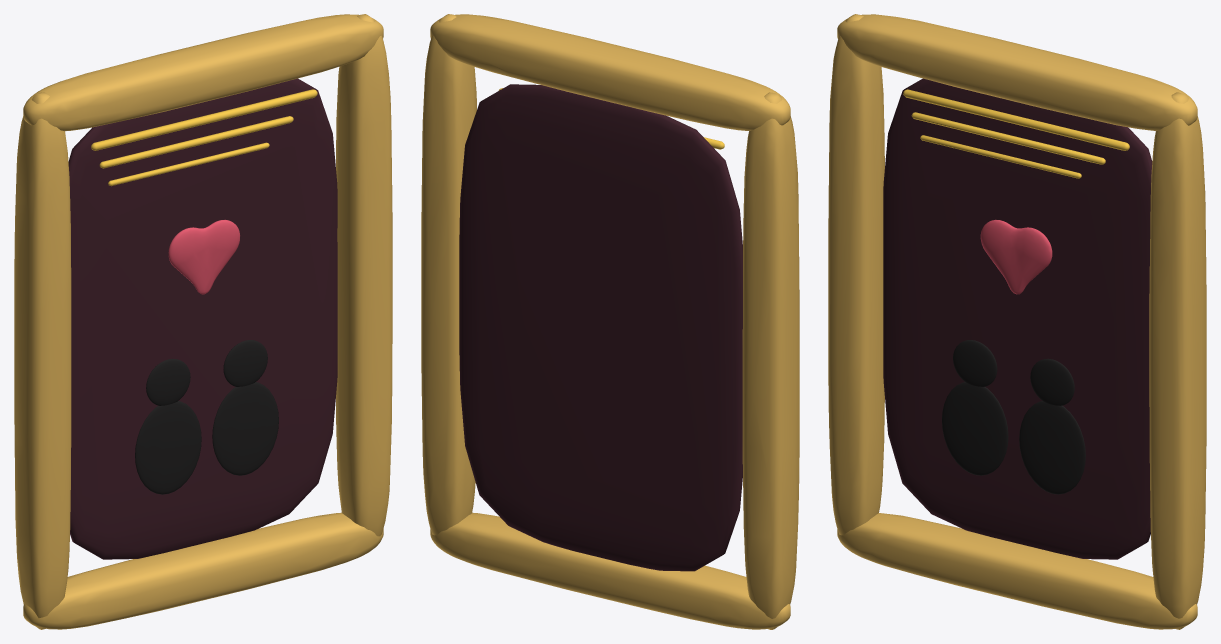
File: deco_poster_cine.glb
3 views of the same model, side by side, from view 1: azimuth 30°, elevation 25°; view 2: azimuth 150°, elevation 25°; view 3: azimuth 330°, elevation 25° (orthographic).
Parts seen in each view (by area): view 1: lienzo.021, marco vertical.042, marco vertical.043, marco horizontal.043, marco horizontal.042, silueta cuerpo -1.001, silueta cuerpo 1.001, corazón cine.001, título cine 0.001, silueta cabeza 1.001, silueta cabeza -1.001, título cine 1.001 (+1 smaller); view 2: lienzo.021, marco vertical.042, marco vertical.043, marco horizontal.043, marco horizontal.042; view 3: lienzo.021, marco vertical.043, marco vertical.042, marco horizontal.043, marco horizontal.042, silueta cuerpo 1.001, silueta cuerpo -1.001, corazón cine.001, título cine 0.001, silueta cabeza -1.001, silueta cabeza 1.001, título cine 1.001 (+1 smaller).
Boxes of the visible parts, bbox=[...] form: lienzo.021: bbox=[68, 78, 337, 559]; marco vertical.042: bbox=[14, 92, 71, 629]; marco vertical.043: bbox=[335, 14, 392, 536]; marco horizontal.043: bbox=[23, 14, 383, 131]; marco horizontal.042: bbox=[23, 512, 383, 629]; silueta cuerpo -1.001: bbox=[135, 401, 201, 494]; silueta cuerpo 1.001: bbox=[212, 382, 278, 475]; corazón cine.001: bbox=[168, 219, 240, 294]; título cine 0.001: bbox=[91, 89, 317, 150]; silueta cabeza 1.001: bbox=[223, 340, 267, 386]; silueta cabeza -1.001: bbox=[146, 358, 190, 405]; título cine 1.001: bbox=[99, 116, 293, 168]; lienzo.021: bbox=[459, 84, 742, 571]; marco vertical.042: bbox=[742, 92, 799, 629]; marco vertical.043: bbox=[421, 14, 476, 535]; marco horizontal.043: bbox=[430, 14, 790, 131]; marco horizontal.042: bbox=[430, 512, 790, 629]; lienzo.021: bbox=[883, 78, 1152, 559]; marco vertical.043: bbox=[1149, 92, 1206, 629]; marco vertical.042: bbox=[828, 14, 884, 535]; marco horizontal.043: bbox=[837, 14, 1197, 130]; marco horizontal.042: bbox=[837, 513, 1197, 629]; silueta cuerpo 1.001: bbox=[1019, 401, 1085, 494]; silueta cuerpo -1.001: bbox=[942, 382, 1008, 475]; corazón cine.001: bbox=[980, 219, 1052, 294]; título cine 0.001: bbox=[903, 89, 1129, 150]; silueta cabeza -1.001: bbox=[953, 340, 997, 386]; silueta cabeza 1.001: bbox=[1030, 358, 1074, 405]; título cine 1.001: bbox=[911, 112, 1105, 164].
Size of the model in its own units: 0.4696 by 0.6697 by 0.0598.
